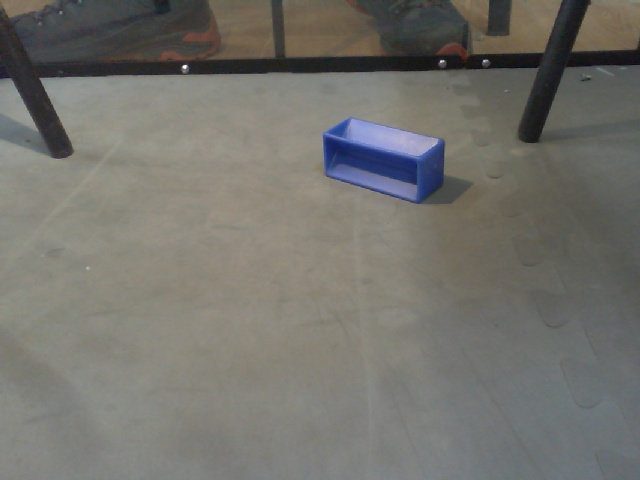BlueSample: (321, 115, 453, 214)
